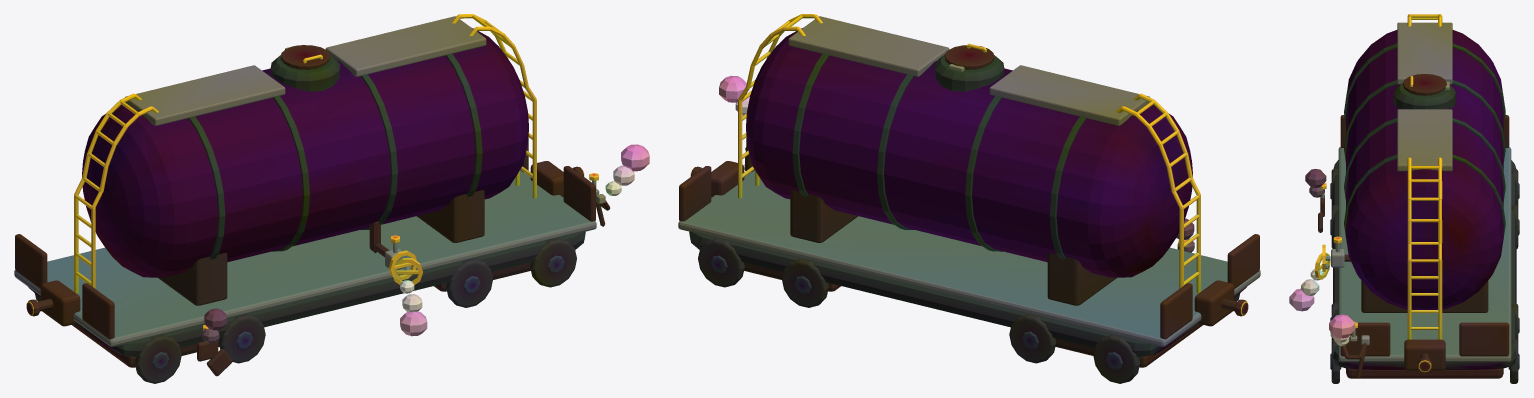
The model's file is TankWagon_Blockout.glb.
The picture shows the model from 3 angles, left to right: view 1: azimuth 30°, elevation 25°; view 2: azimuth 150°, elevation 25°; view 3: azimuth 270°, elevation 25°; orthographic projection. The views are drawn at different scales.
Visible parts, largest first — view 1: Body, Deck, Underframe, Roof, RoofLadder, Broken_Bits__Valve, Broken_Bits__BrakeHose, Broken_Bits__AxleBox, TankHatch, ValvePipe; view 2: Body, Deck, Underframe, Roof, RoofLadder, TankHatch, Broken_Bits__BrakeHose; view 3: Body, Deck, Roof, Underframe, RoofLadder, Broken_Bits__Valve, TankHatch, Broken_Bits__BrakeHose, Broken_Bits__AxleBox, ValvePipe, Coupler_Front.
Boxes of the visible parts, x1,y1,x2,y2 form: Body: [82, 28, 528, 305]; Deck: [14, 137, 596, 346]; Underframe: [28, 231, 585, 383]; Roof: [125, 16, 486, 125]; RoofLadder: [74, 14, 536, 293]; Broken_Bits__Valve: [393, 258, 427, 336]; Broken_Bits__BrakeHose: [596, 144, 649, 226]; Broken_Bits__AxleBox: [202, 308, 232, 376]; TankHatch: [280, 45, 330, 68]; ValvePipe: [369, 221, 405, 269]; Body: [746, 28, 1192, 305]; Deck: [678, 137, 1260, 346]; Underframe: [689, 231, 1246, 383]; Roof: [788, 16, 1149, 125]; RoofLadder: [738, 14, 1200, 293]; TankHatch: [944, 43, 994, 72]; Broken_Bits__BrakeHose: [719, 75, 749, 170]; Body: [1344, 30, 1505, 312]; Deck: [1338, 115, 1511, 370]; Roof: [1393, 22, 1455, 171]; Underframe: [1330, 160, 1519, 383]; RoofLadder: [1407, 14, 1442, 339]; Broken_Bits__Valve: [1289, 253, 1330, 311]; TankHatch: [1402, 74, 1449, 94]; Broken_Bits__BrakeHose: [1329, 314, 1367, 378]; Broken_Bits__AxleBox: [1305, 169, 1326, 232]; ValvePipe: [1331, 249, 1350, 267]; Coupler_Front: [1417, 353, 1431, 372].
Size of the model in its own units: 8.45 by 3.47 by 3.33.
